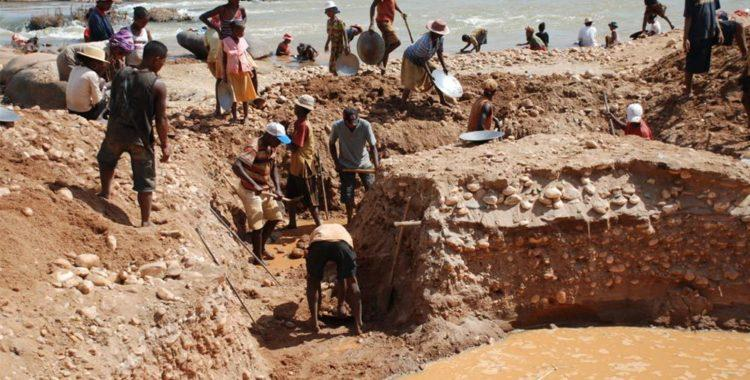MiningTool: (373, 195, 415, 313), (429, 67, 466, 98), (256, 185, 303, 208), (355, 30, 385, 66), (332, 51, 361, 80), (213, 74, 232, 109), (338, 163, 386, 176), (458, 130, 501, 144), (402, 15, 415, 44)
Person: (94, 42, 173, 227), (234, 120, 287, 266), (328, 104, 385, 227), (304, 222, 364, 337), (198, 1, 247, 117), (287, 96, 326, 229), (675, 1, 726, 101), (398, 17, 449, 115), (64, 45, 110, 114), (222, 25, 254, 121), (366, 1, 402, 72), (465, 79, 504, 142), (604, 100, 654, 138), (322, 5, 347, 74), (117, 6, 152, 47), (82, 1, 117, 41), (639, 1, 674, 34), (272, 31, 293, 56), (531, 22, 551, 48), (577, 19, 597, 45), (515, 33, 545, 50), (459, 32, 488, 49), (295, 40, 318, 61), (604, 19, 618, 44), (645, 18, 661, 36)
